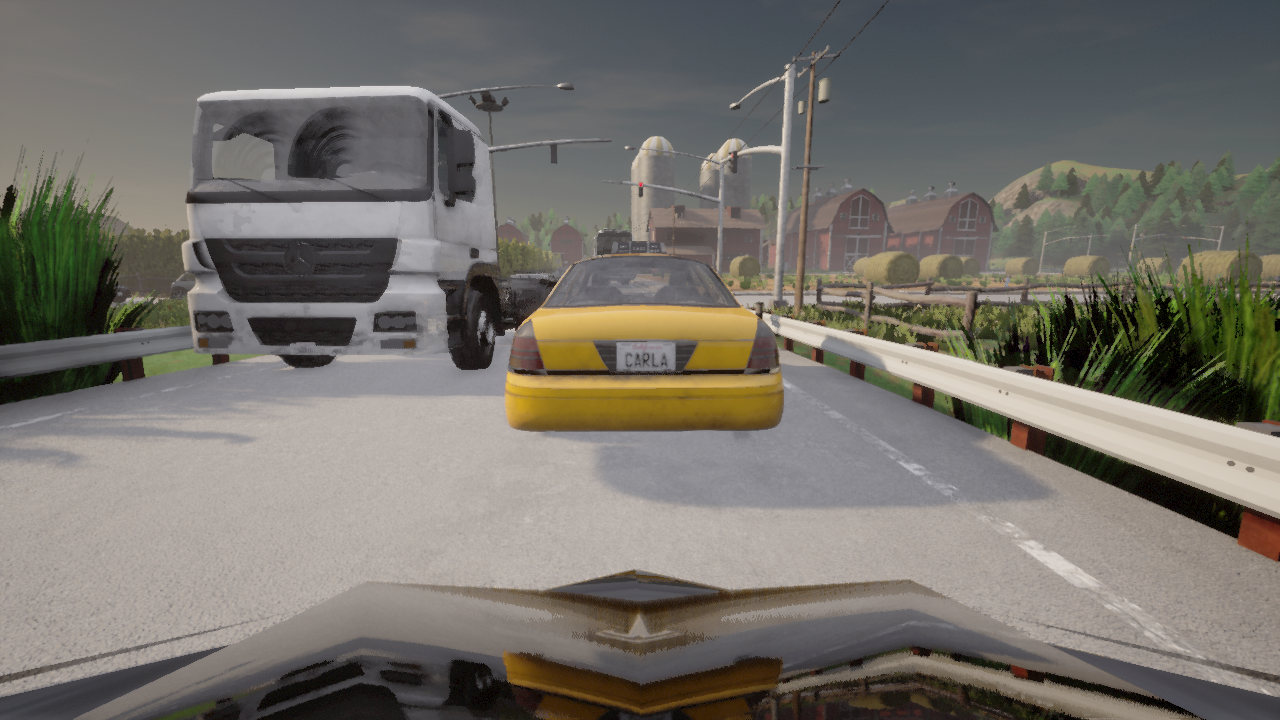cyclist: (0, 569, 1279, 719), (182, 85, 559, 369), (505, 242, 783, 431), (584, 230, 632, 258), (501, 269, 552, 285), (170, 273, 195, 299), (107, 282, 131, 302), (552, 266, 569, 278), (849, 266, 853, 272), (761, 264, 764, 267)
pedestrian: (1003, 271, 1013, 286), (1214, 271, 1221, 280), (783, 271, 785, 290), (1276, 275, 1279, 282), (1277, 277, 1278, 282)
